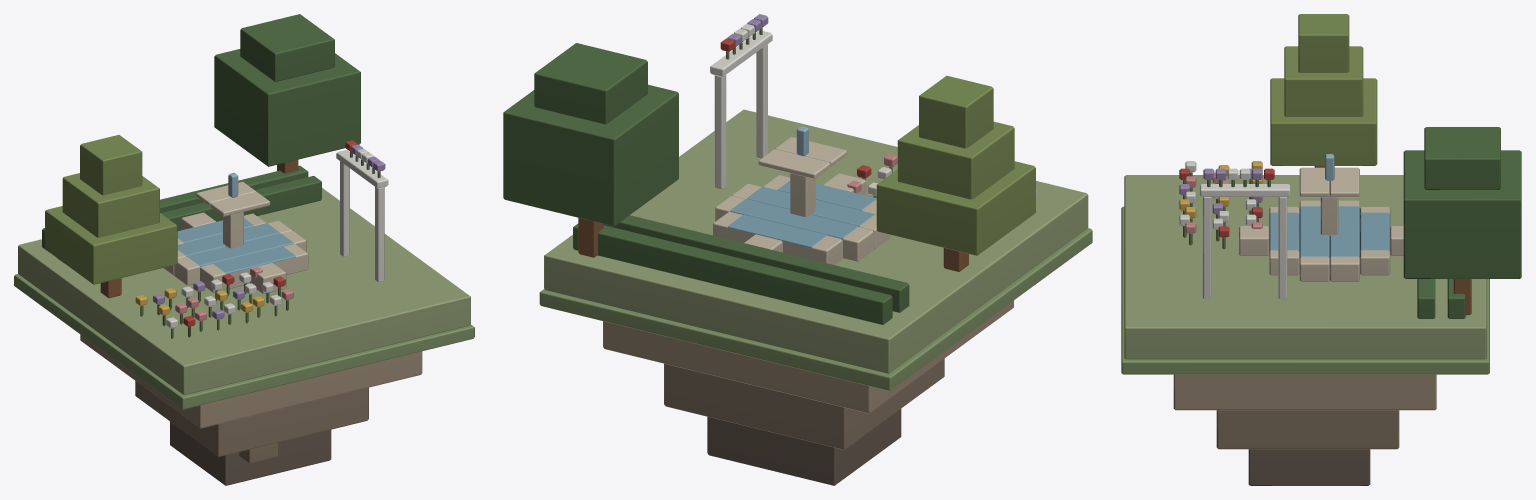
The model's file is region_05.glb.
3 views of the same model, side by side, from view 1: azimuth 30°, elevation 25°; view 2: azimuth 150°, elevation 25°; view 3: azimuth 270°, elevation 25° (orthographic). The views are drawn at different scales.
Parts seen in each view (by area): view 1: region_05_static; view 2: region_05_static; view 3: region_05_static.
Boxes of the visible parts, left/top/right/bottom form: region_05_static: left=14, top=14, right=474, bottom=485; region_05_static: left=503, top=14, right=1092, bottom=485; region_05_static: left=1121, top=14, right=1521, bottom=485.
Bounding box in the file's own units: 6.86 × 7.07 × 6.63.
